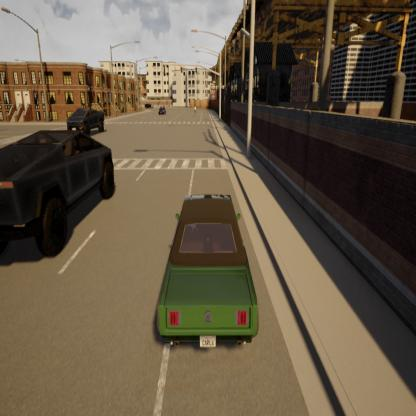Cars: (153, 181, 261, 366), (0, 125, 118, 282), (64, 102, 107, 140), (144, 100, 154, 112), (158, 105, 168, 116)
